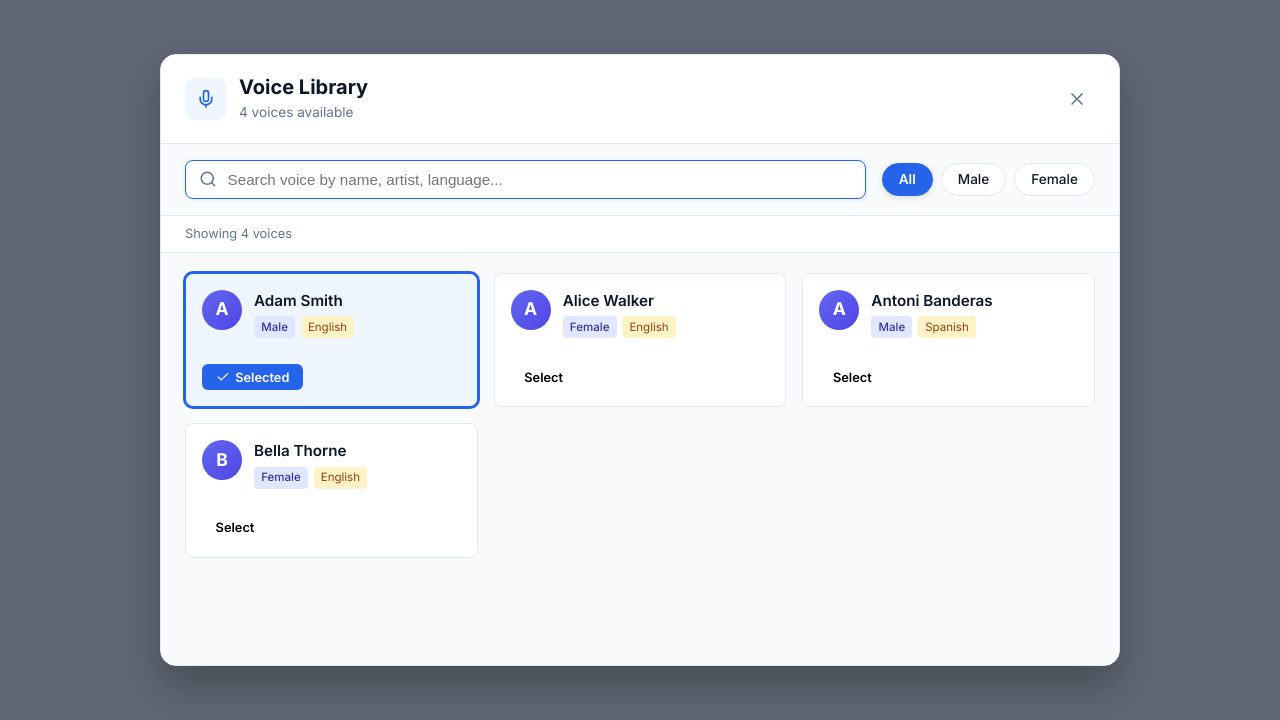
VoiceLibraryModal Component › filters voice cards live when user types into modal search input
Type "Antoni" into the field with placeholder "Search voice by name, artist, language..." at (525, 180), box [185,160,866,199]
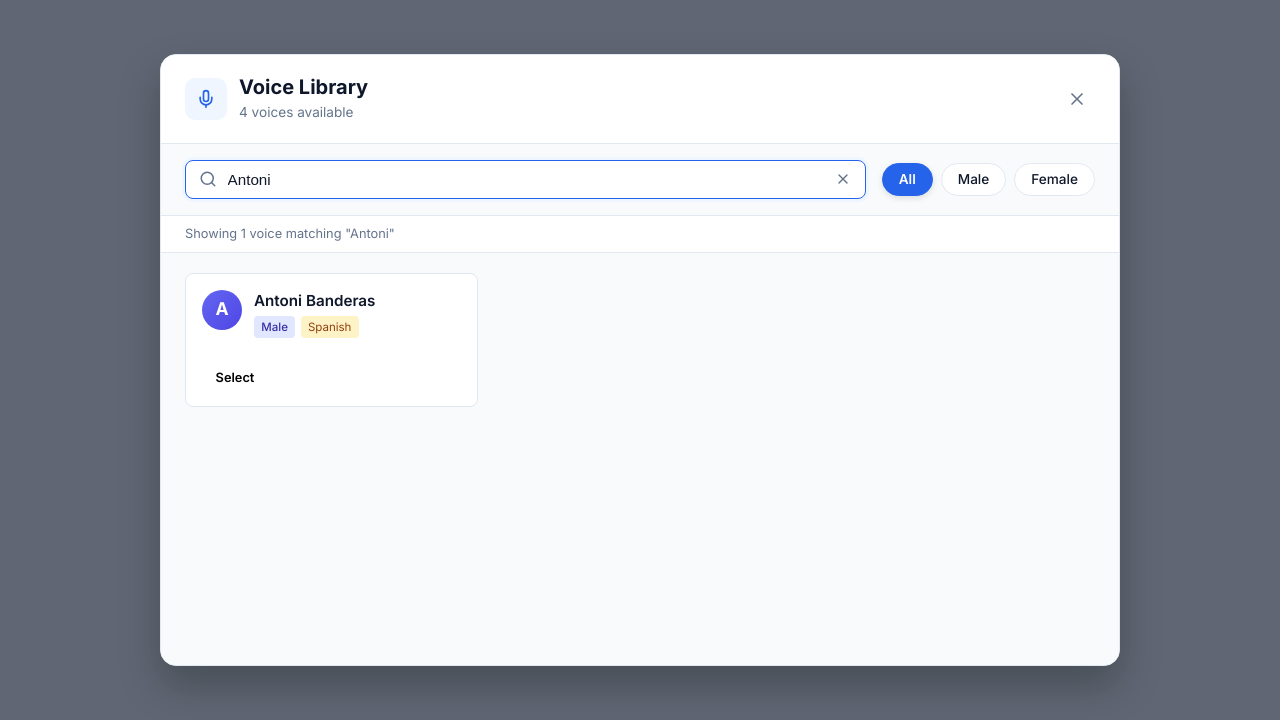
Expected: the heading "Antoni Banderas" is shown, [254,290,375,310]
Expected: the heading "Adam Smith" is gone
Expected: the heading "Alice Walker" is gone
